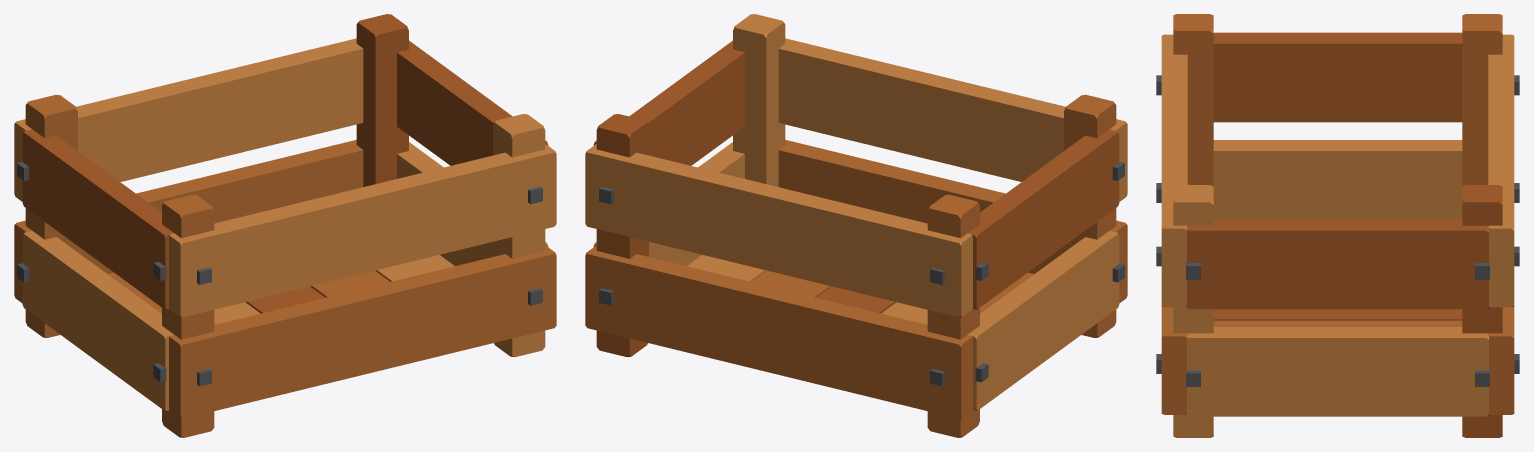
File: Empty Produce Crate.glb
3 views of the same model, side by side, from view 1: azimuth 30°, elevation 25°; view 2: azimuth 150°, elevation 25°; view 3: azimuth 270°, elevation 25° (orthographic). The views are drawn at different scales.
Visible parts, largest first — view 1: Empty Produce Crate; view 2: Empty Produce Crate; view 3: Empty Produce Crate.
Boxes of the visible parts, x1,y1,x2,y2 form: Empty Produce Crate: [14, 14, 556, 437]; Empty Produce Crate: [585, 14, 1127, 437]; Empty Produce Crate: [1156, 14, 1519, 437].
Size of the model in its own units: 0.6 by 0.3243 by 0.453.
